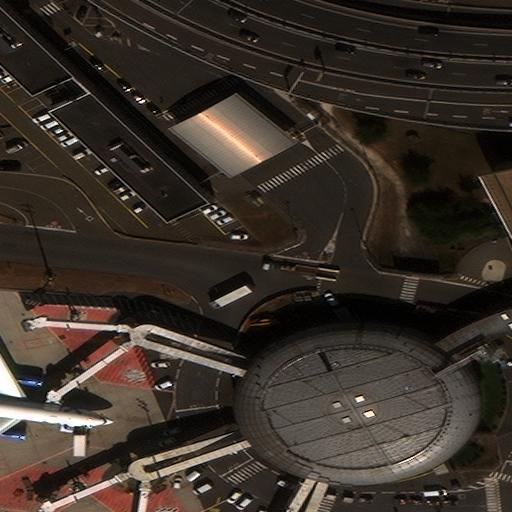Large Civil Transport: (0, 335, 113, 460)
